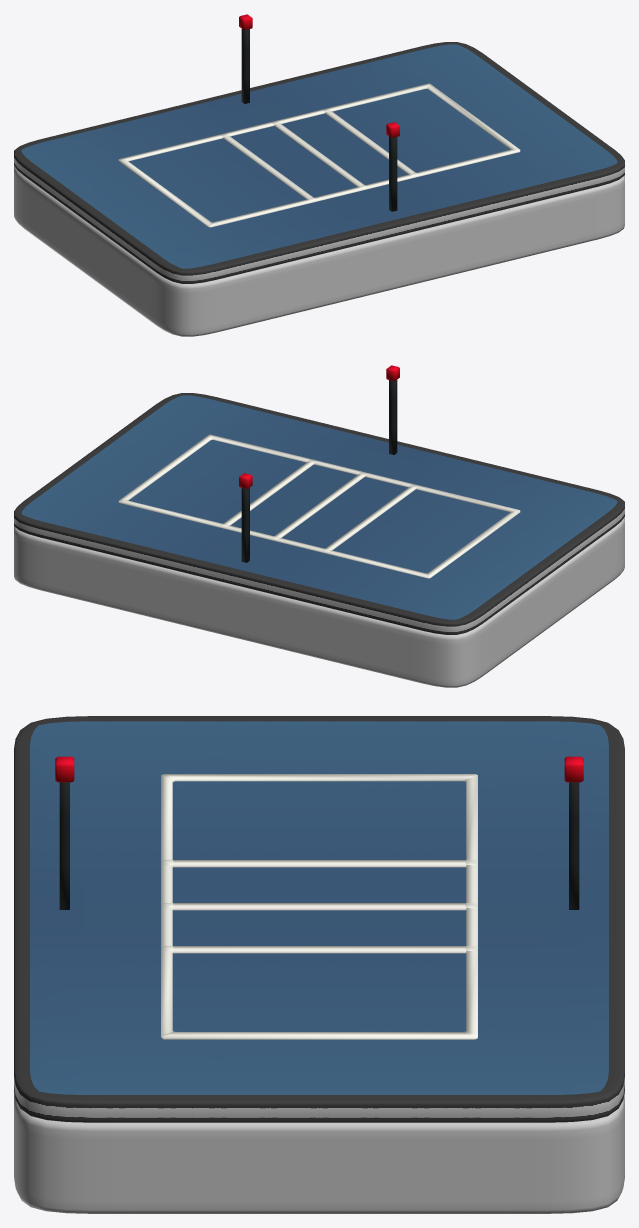
Rendered from court_high.fbx.
3 views of the same model, one above another, from view 1: azimuth 30°, elevation 25°; view 2: azimuth 150°, elevation 25°; view 3: azimuth 270°, elevation 25° (orthographic). The views are drawn at different scales.
Parts seen in each view (by area): view 1: court_high, ground_high, lines, poles; view 2: court_high, ground_high, lines, poles; view 3: court_high, ground_high, lines, poles.
Part boxes in pixels (x1=…): court_high: x1=14, y1=42, x2=624, y2=283; ground_high: x1=14, y1=166, x2=624, y2=336; lines: x1=118, y1=83, x2=520, y2=227; poles: x1=239, y1=14, x2=399, y2=211; court_high: x1=14, y1=393, x2=624, y2=634; ground_high: x1=14, y1=517, x2=624, y2=687; lines: x1=118, y1=434, x2=520, y2=578; poles: x1=239, y1=365, x2=399, y2=562; court_high: x1=14, y1=716, x2=624, y2=1122; ground_high: x1=14, y1=1091, x2=624, y2=1213; lines: x1=161, y1=774, x2=477, y2=1039; poles: x1=55, y1=756, x2=583, y2=909.
Size of the model in its own units: 1800 by 571 by 1200.
